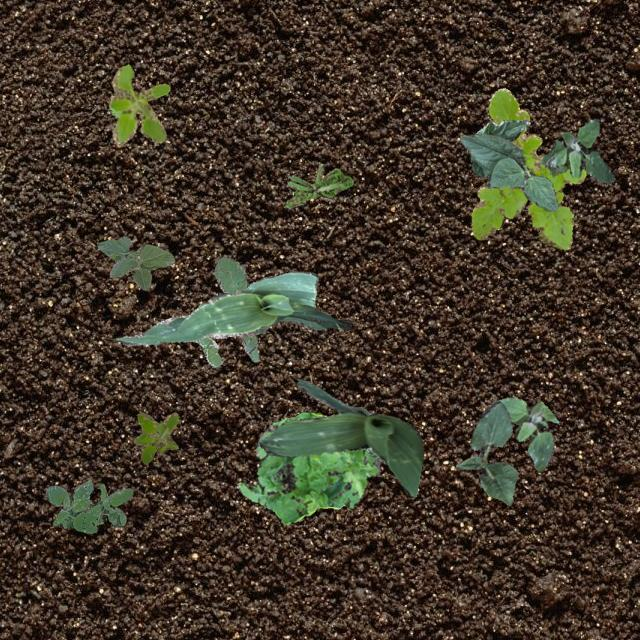crop: (258, 378, 422, 497), (114, 270, 350, 346), (460, 130, 558, 210), (454, 400, 516, 504), (96, 236, 174, 288), (470, 118, 528, 176), (350, 406, 382, 458)
weed: (470, 88, 586, 250), (236, 412, 380, 524), (193, 256, 257, 366), (108, 62, 168, 146), (494, 396, 558, 471), (44, 478, 132, 532), (540, 118, 614, 182), (284, 162, 352, 206), (134, 412, 178, 462)
